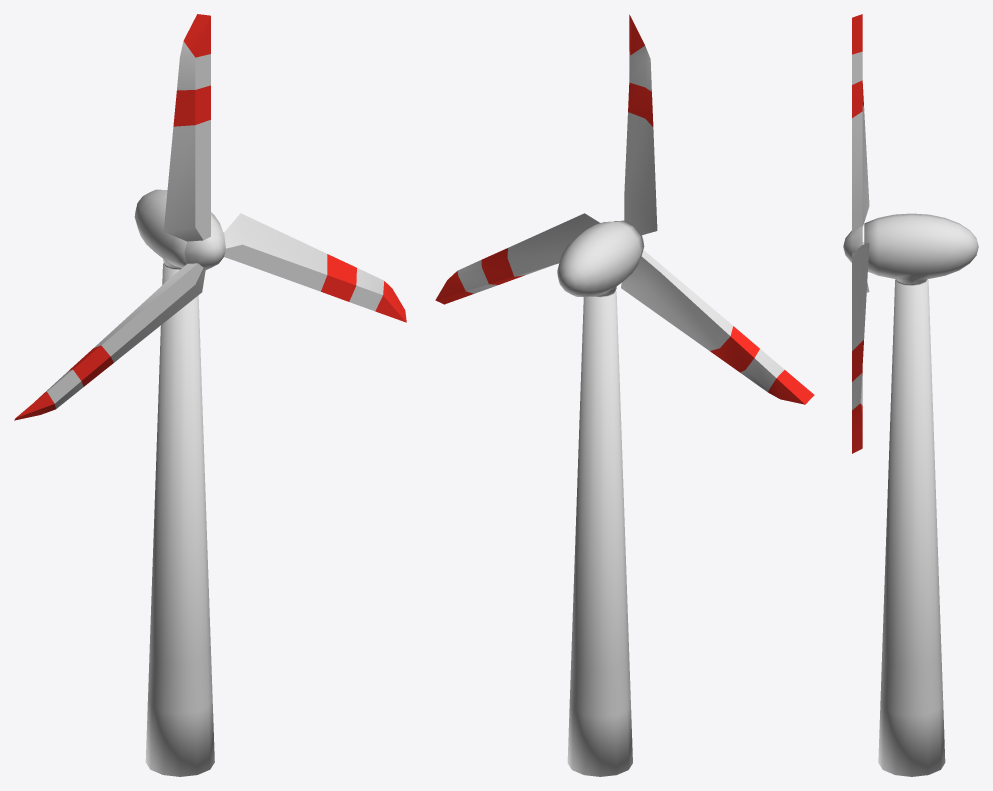
File: Wind Turbine.fbx
3 renders of one model, left to right at view 1: azimuth 30°, elevation 25°; view 2: azimuth 150°, elevation 25°; view 3: azimuth 270°, elevation 25°, orthographic. The views are drawn at different scales.
Parts seen in each view (by area): view 1: Wind Turbine.001, Wind Turbine; view 2: Wind Turbine.001, Wind Turbine; view 3: Wind Turbine.001, Wind Turbine.
Boxes of the visible parts, x1,y1,x2,y2 form: Wind Turbine.001: (134, 189, 222, 776); Wind Turbine: (14, 14, 406, 420); Wind Turbine.001: (557, 221, 643, 776); Wind Turbine: (435, 14, 814, 404); Wind Turbine.001: (864, 213, 978, 776); Wind Turbine: (843, 14, 869, 453).
Bounding box in the file's own units: 1321 × 2455 × 405.
1 material, 1 textured.
